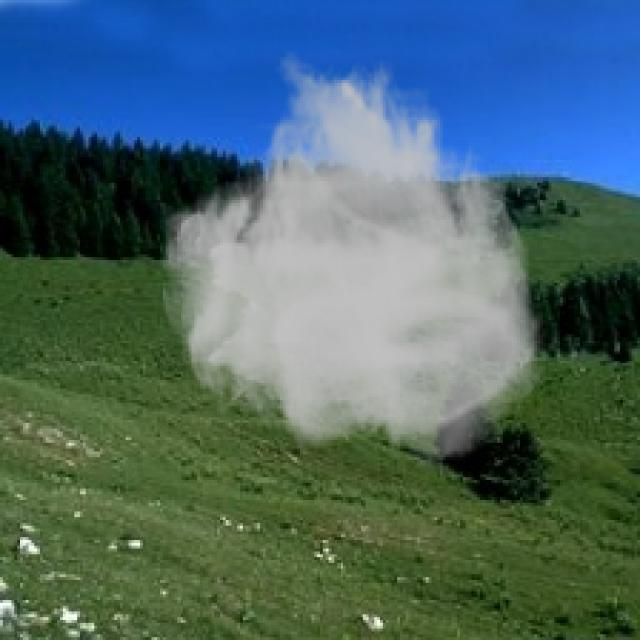smoke: (157, 49, 549, 468)
